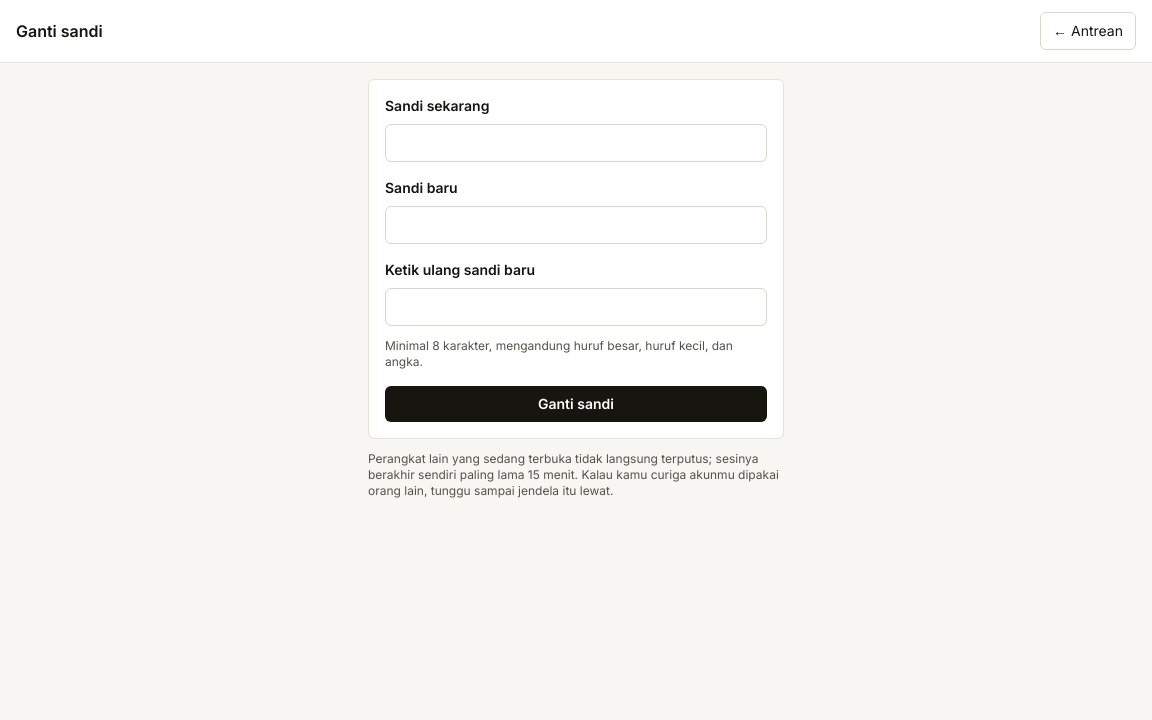
it: ganti sandi › pesan penolakan server ditampilkan apa adanya
Type "Salah12345" into the password field labelled "Sandi sekarang".
click(576, 143); type("Salah12345")  # box x1=385 y1=124 x2=767 y2=162
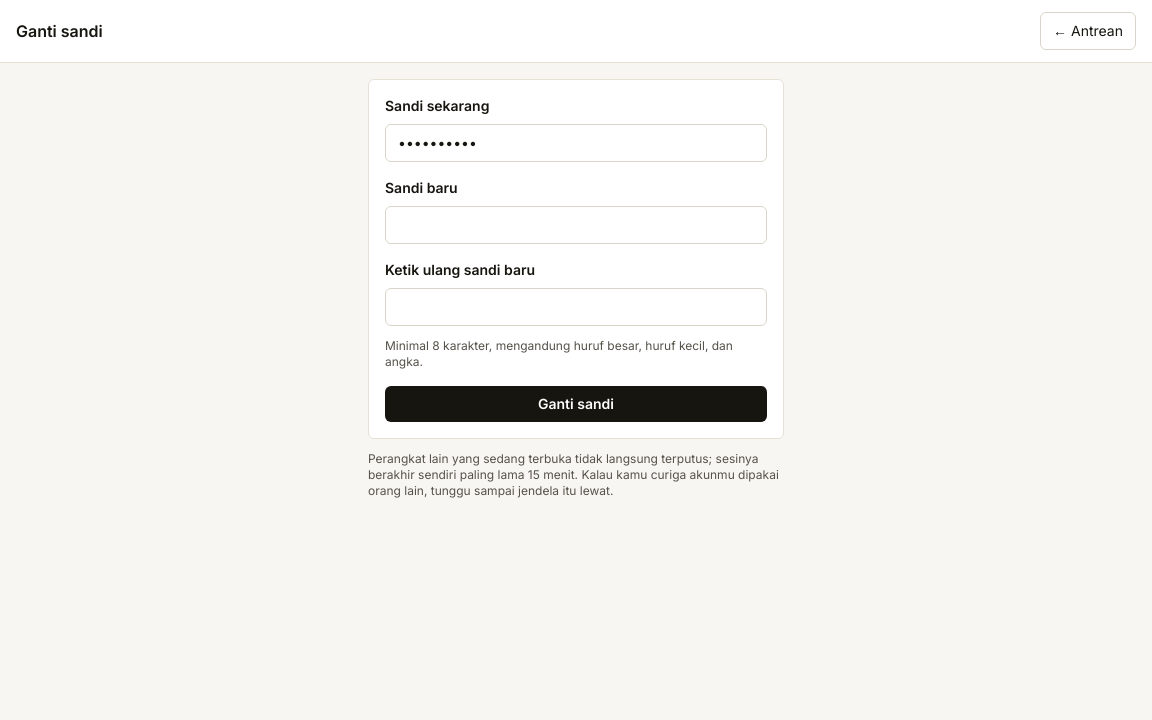
Type "Baru67890" into the password field labelled "Sandi baru".
click(576, 225); type("Baru67890")  # box x1=385 y1=206 x2=767 y2=244
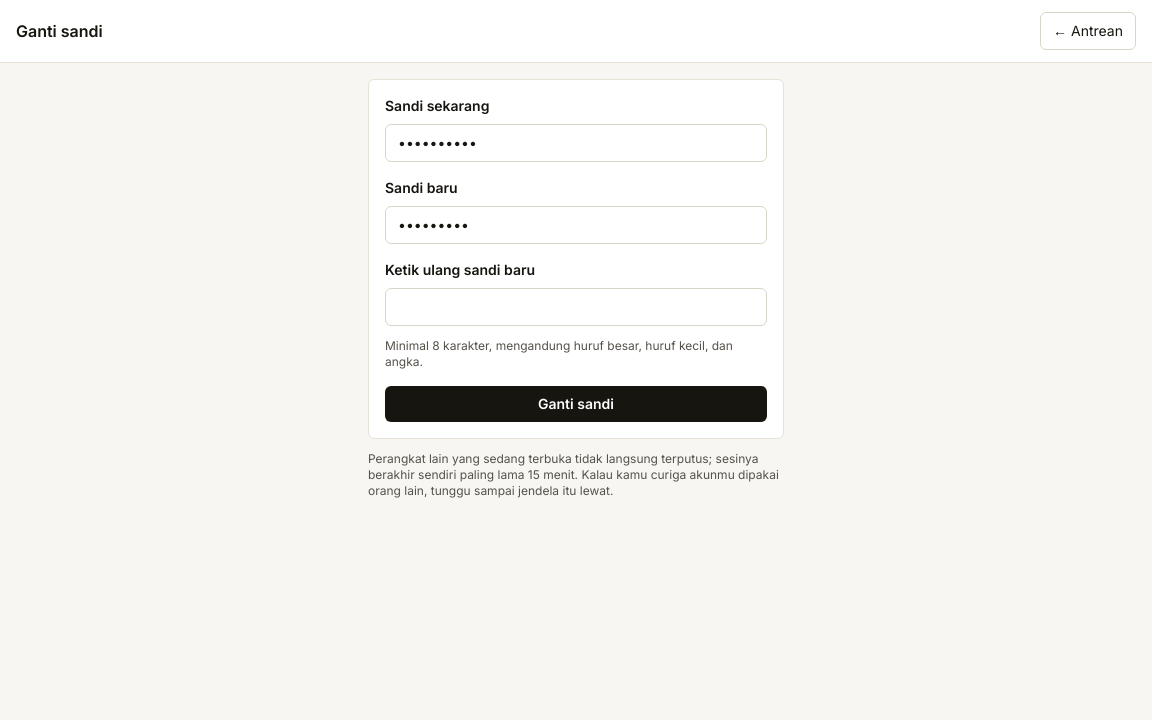
Type "Baru67890" into the password field labelled "Ketik ulang sandi baru".
click(576, 307); type("Baru67890")  # box x1=385 y1=288 x2=767 y2=326
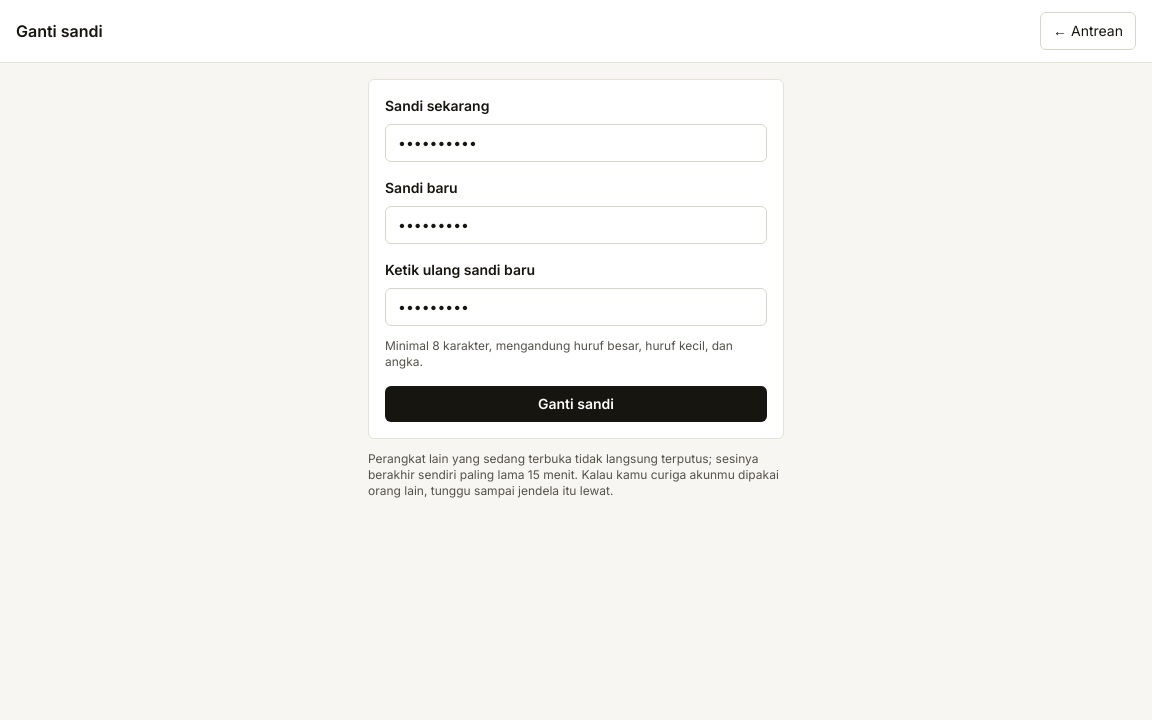
Click the button "Ganti sandi".
click(576, 404)  # box x1=385 y1=386 x2=767 y2=422
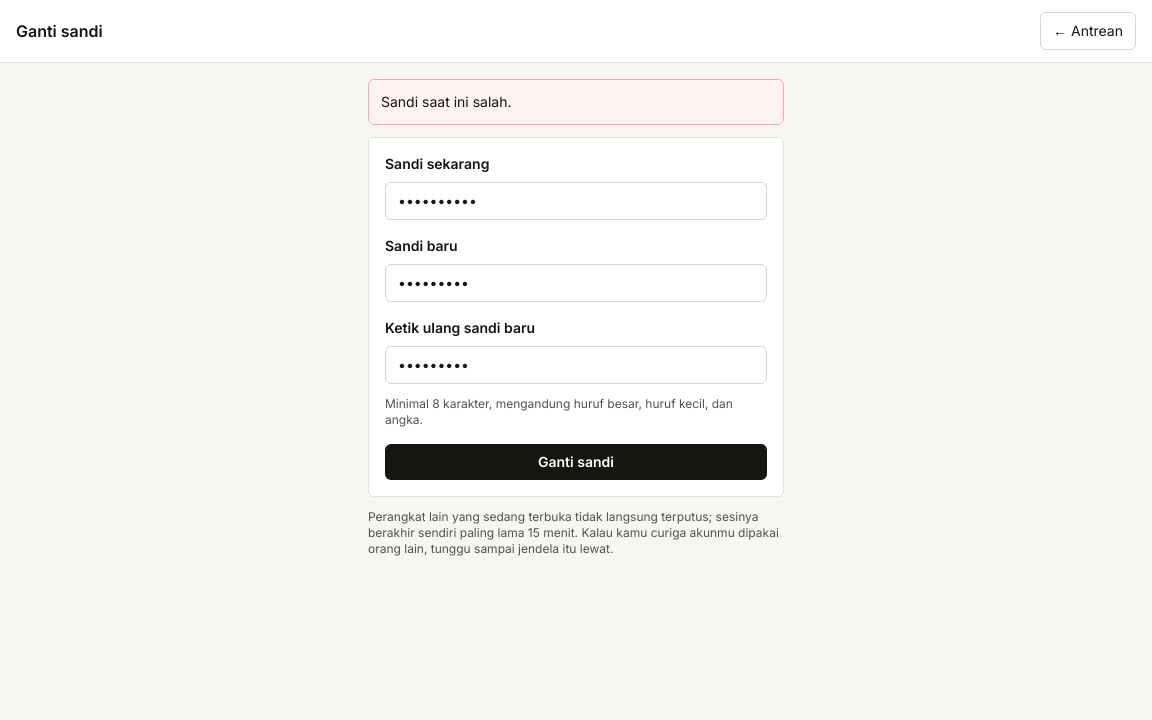
Expected: the message reads "Sandi saat ini salah.", x1=381 y1=93 x2=512 y2=110
